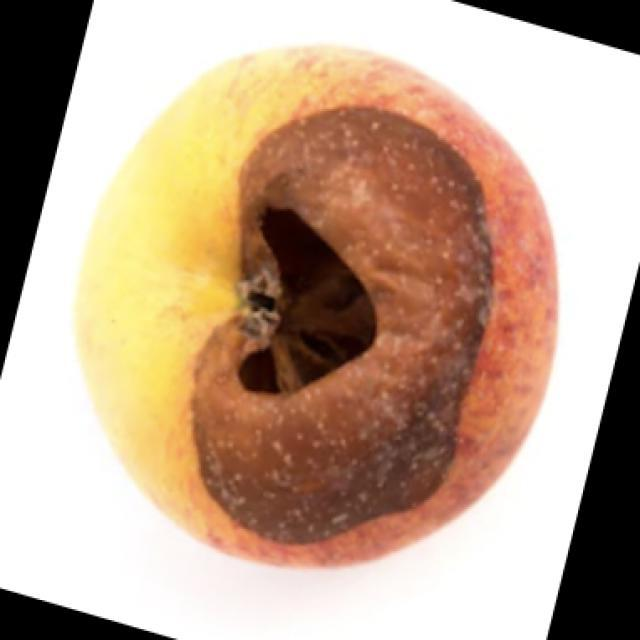Rotten: (95, 58, 552, 590)
